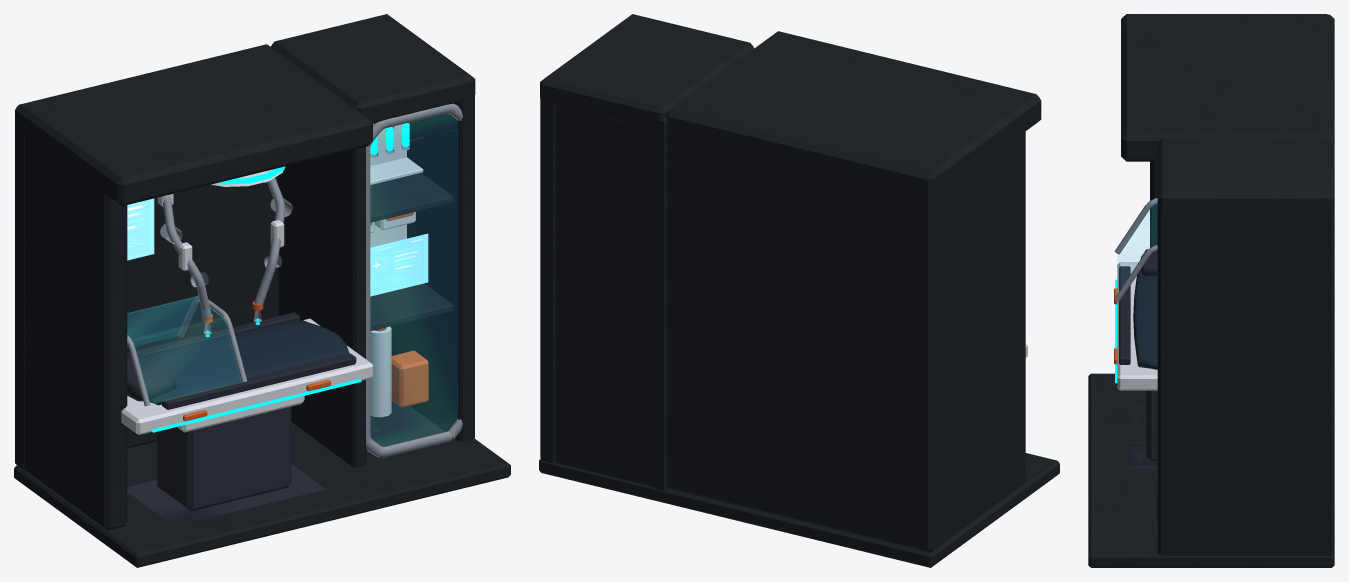
Rendered from med_autodoc_winner_01_dual_zone_autodoc_pharmacy.glb.
3 views of the same model, side by side, from view 1: azimuth 30°, elevation 25°; view 2: azimuth 150°, elevation 25°; view 3: azimuth 270°, elevation 25° (orthographic). The views are drawn at different scales.
Visible parts, largest first — view 1: Autodoc02_SplitBayGunmetalHousing, Autodoc02_TranslucentCanopyAndPharmacyTowerGlass, Autodoc02_CarbonSlatePedestal, Autodoc02_WhiteSurgicalBedArmsAndO2Tanks, Autodoc02_MachinedRoboticGantryAndTowerBezel, Autodoc02_OrbitalNavyPatientPad, Autodoc02_CharcoalBiometricBolsters, Autodoc02_OLEDMedbayVitalsArray, Autodoc02_SignalOrangeValvesDefibAndLatches, Autodoc02_CyanCryoVialsAndBedLED; view 2: Autodoc02_SplitBayGunmetalHousing; view 3: Autodoc02_SplitBayGunmetalHousing, Autodoc02_OrbitalNavyPatientPad, Autodoc02_WhiteSurgicalBedArmsAndO2Tanks, Autodoc02_TranslucentCanopyAndPharmacyTowerGlass, Autodoc02_CarbonSlatePedestal, Autodoc02_CharcoalBiometricBolsters, Autodoc02_MachinedRoboticGantryAndTowerBezel.
Boxes of the visible parts, <box> form: Autodoc02_SplitBayGunmetalHousing: <box>14,14,510,567</box>; Autodoc02_TranslucentCanopyAndPharmacyTowerGlass: <box>127,114,457,451</box>; Autodoc02_CarbonSlatePedestal: <box>127,406,325,520</box>; Autodoc02_WhiteSurgicalBedArmsAndO2Tanks: <box>121,123,423,434</box>; Autodoc02_MachinedRoboticGantryAndTowerBezel: <box>126,103,462,457</box>; Autodoc02_OrbitalNavyPatientPad: <box>146,320,349,405</box>; Autodoc02_CharcoalBiometricBolsters: <box>127,312,356,409</box>; Autodoc02_OLEDMedbayVitalsArray: <box>127,198,428,296</box>; Autodoc02_SignalOrangeValvesDefibAndLatches: <box>183,212,428,421</box>; Autodoc02_CyanCryoVialsAndBedLED: <box>151,123,409,432</box>; Autodoc02_SplitBayGunmetalHousing: <box>539,14,1059,567</box>; Autodoc02_SplitBayGunmetalHousing: <box>1088,14,1334,567</box>; Autodoc02_OrbitalNavyPatientPad: <box>1133,270,1157,369</box>; Autodoc02_WhiteSurgicalBedArmsAndO2Tanks: <box>1117,262,1157,390</box>; Autodoc02_TranslucentCanopyAndPharmacyTowerGlass: <box>1118,201,1156,291</box>; Autodoc02_CarbonSlatePedestal: <box>1129,390,1157,474</box>; Autodoc02_CharcoalBiometricBolsters: <box>1119,249,1157,364</box>; Autodoc02_MachinedRoboticGantryAndTowerBezel: <box>1114,198,1157,301</box>.
Bounding box in the file's own units: 2.25 × 2.15 × 1.28.
Materials: 12 (12 with a texture image).
